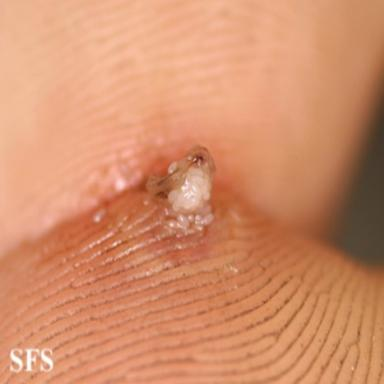Tungiasis: (146, 145, 215, 239)
